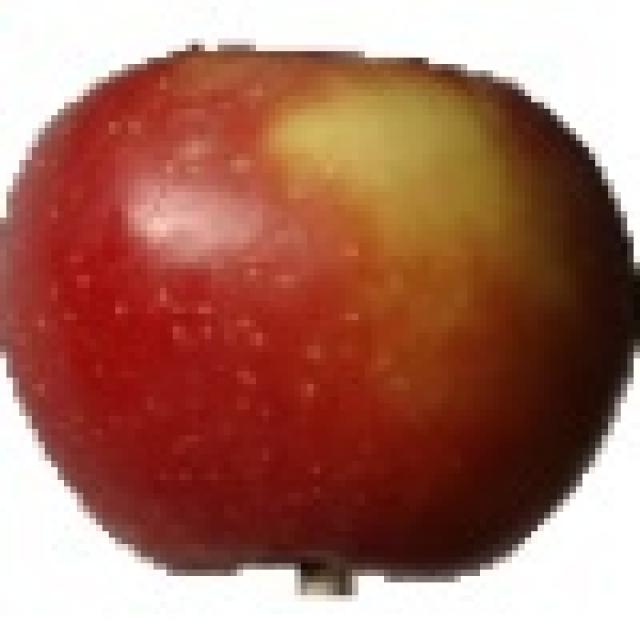apple: (2, 14, 640, 625)
